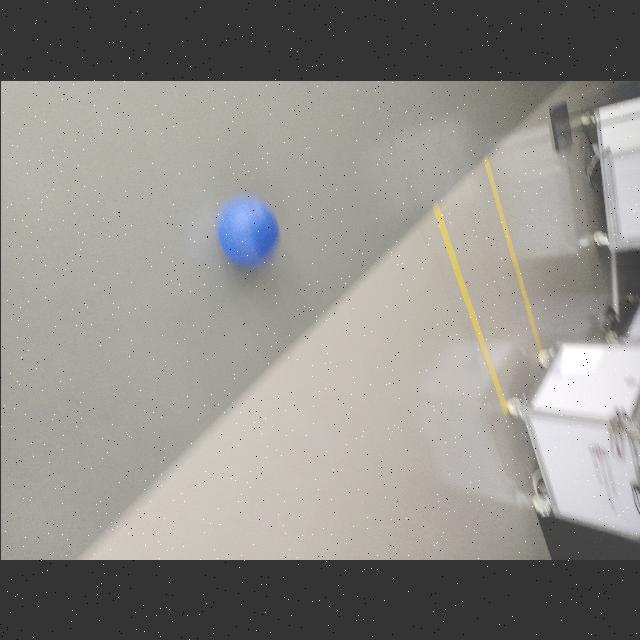B: (214, 193, 280, 265)
